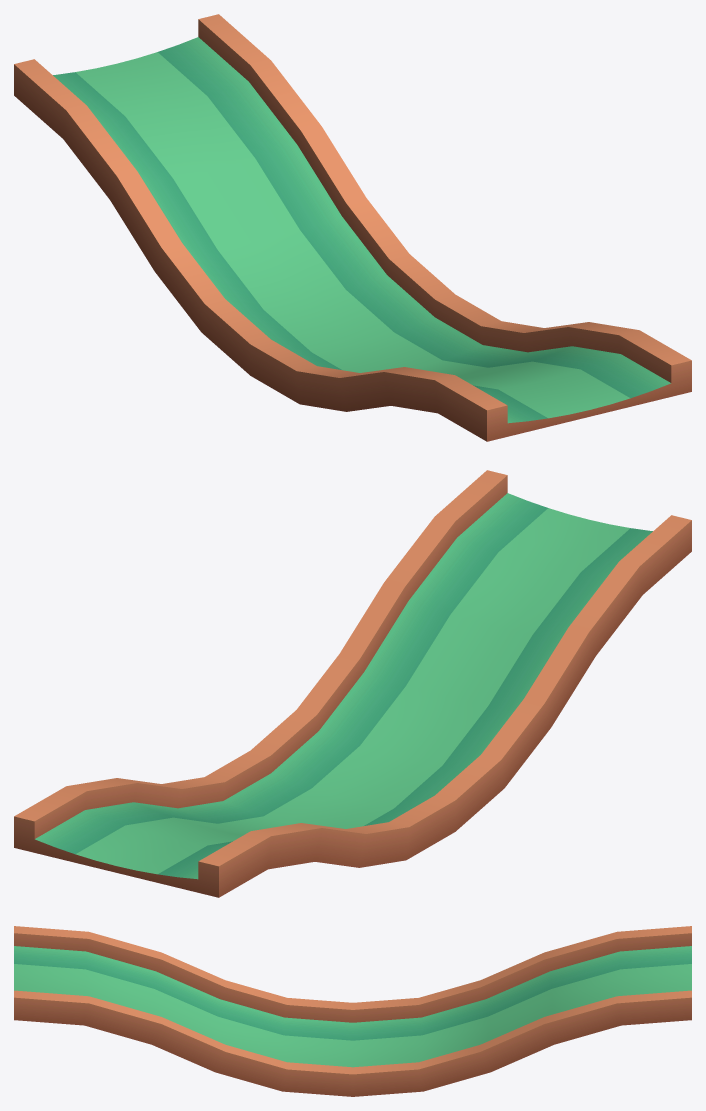
The model's file is spline-concave-straight-bump-down.glb.
3 views of the same model, one above another, from view 1: azimuth 30°, elevation 25°; view 2: azimuth 150°, elevation 25°; view 3: azimuth 270°, elevation 25° (orthographic). The views are drawn at different scales.
Parts seen in each view (by area): view 1: spline-concave-straight-bump-down; view 2: spline-concave-straight-bump-down; view 3: spline-concave-straight-bump-down.
Part boxes in pixels (x1=…): spline-concave-straight-bump-down: x1=14, y1=14, x2=691, y2=441; spline-concave-straight-bump-down: x1=14, y1=470, x2=691, y2=897; spline-concave-straight-bump-down: x1=14, y1=926, x2=691, y2=1096.
Size of the model in its own units: 1 by 0.6465 by 4.
Materials: 1 (1 with a texture image).
